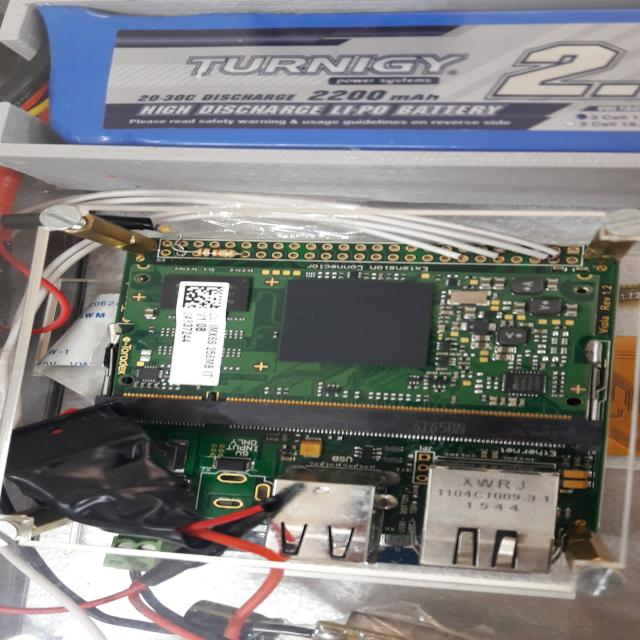som: (119, 231, 601, 429)
